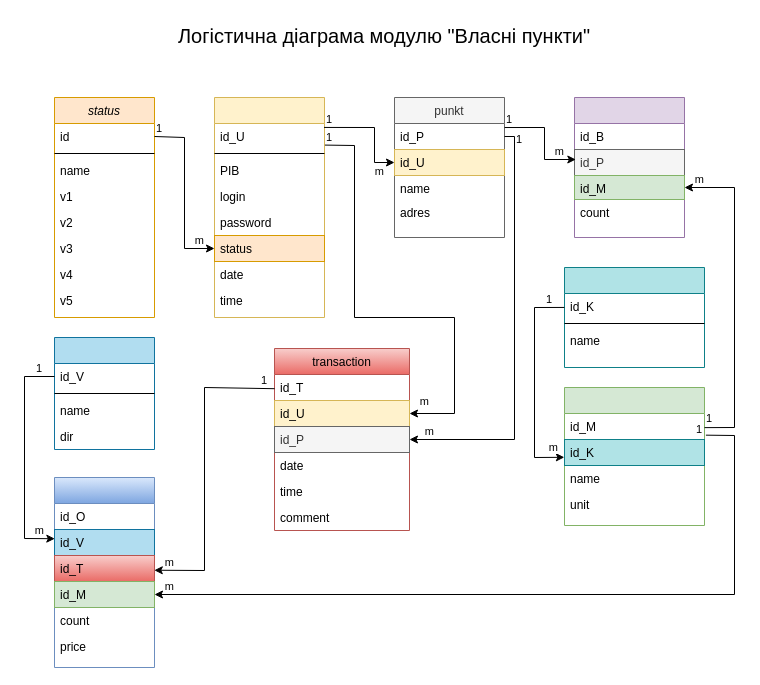
Image size: 760x685. Some labels were removed from this diagram. The box of each missing label's shape, as (x1, y1, x2, y2) in pixels:
bits: (574, 96, 684, 238)
material: (564, 386, 704, 526)
matKategories: (564, 266, 704, 368)
operation: (54, 476, 154, 668)
operVid: (54, 336, 154, 450)
users: (214, 96, 324, 318)
